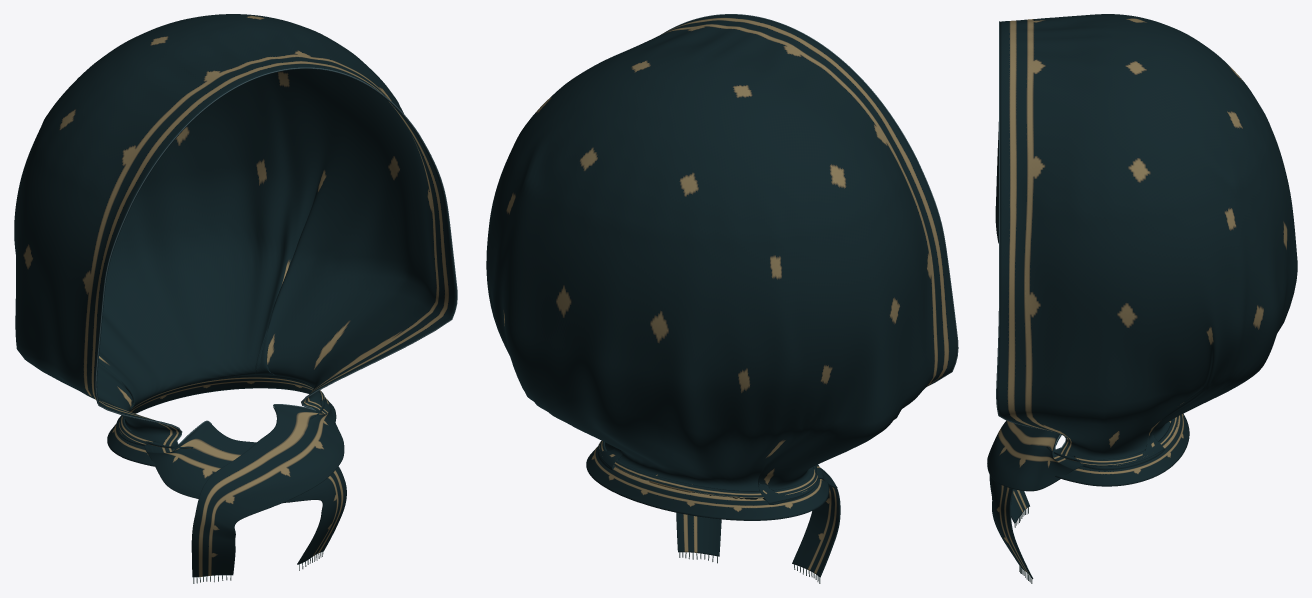
File: Feminine-sweatshirt-pashmina238-headgear.glb
3 views of the same model, side by side, from view 1: azimuth 30°, elevation 25°; view 2: azimuth 150°, elevation 25°; view 3: azimuth 270°, elevation 25° (orthographic). The views are drawn at different scales.
Visible parts, largest first — view 1: 226 headgear / Headwear / continuous woven pashmina238, 226 headgear / Headwear / face edge238; view 2: 226 headgear / Headwear / continuous woven pashmina238, 226 headgear / Headwear / face edge238; view 3: 226 headgear / Headwear / continuous woven pashmina238, 226 headgear / Headwear / face edge238.
Part boxes in pixels (x1,y1,x2,y2): 226 headgear / Headwear / continuous woven pashmina238: [14, 14, 456, 577]; 226 headgear / Headwear / face edge238: [95, 67, 457, 444]; 226 headgear / Headwear / continuous woven pashmina238: [486, 14, 957, 577]; 226 headgear / Headwear / face edge238: [661, 14, 958, 385]; 226 headgear / Headwear / continuous woven pashmina238: [987, 14, 1297, 579]; 226 headgear / Headwear / face edge238: [996, 21, 1066, 450].
Bounding box in the file's own units: 1.02 × 1.35 × 0.7314.
3 materials, 1 textured.
